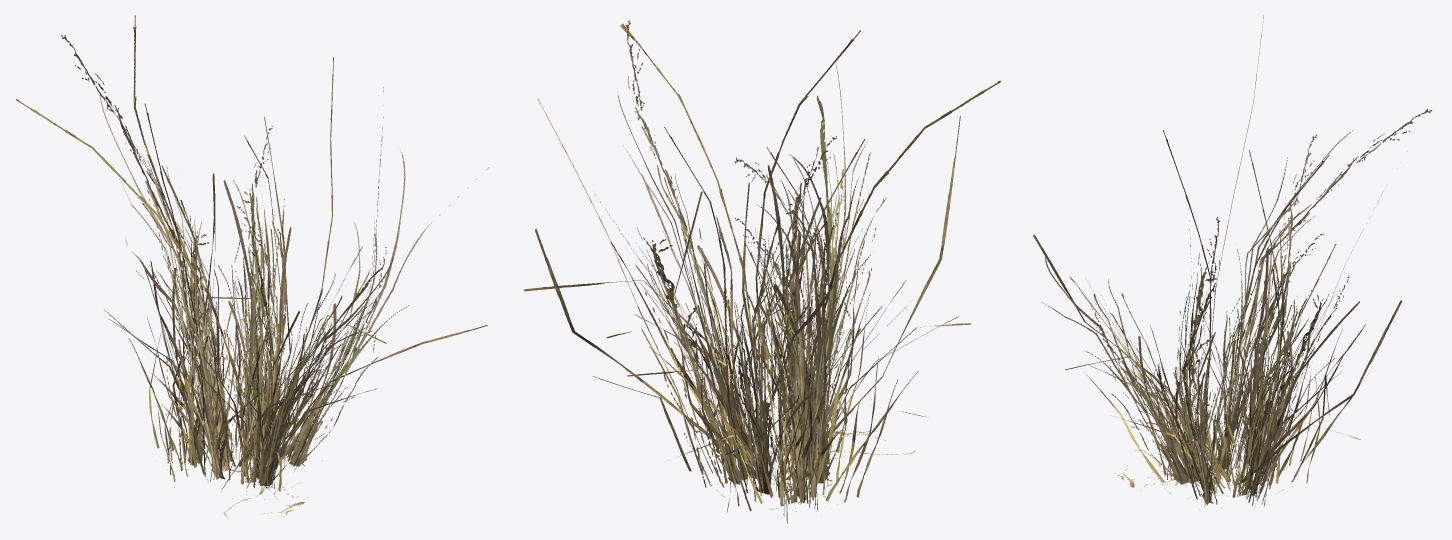
File: Wild Grass 02.fbx
3 views of the same model, side by side, from view 1: azimuth 30°, elevation 25°; view 2: azimuth 150°, elevation 25°; view 3: azimuth 270°, elevation 25° (orthographic). The views are drawn at different scales.
Visible parts, largest first — view 1: Wild Grass 02; view 2: Wild Grass 02; view 3: Wild Grass 02.
Boxes of the visible parts, x1=… form: Wild Grass 02: x1=16, y1=15, x2=488, y2=517; Wild Grass 02: x1=524, y1=20, x2=1000, y2=523; Wild Grass 02: x1=1033, y1=15, x2=1431, y2=510.
Bounding box in the file's own units: 47.44 × 42.69 × 40.83.
Materials: 1 (1 with a texture image).
